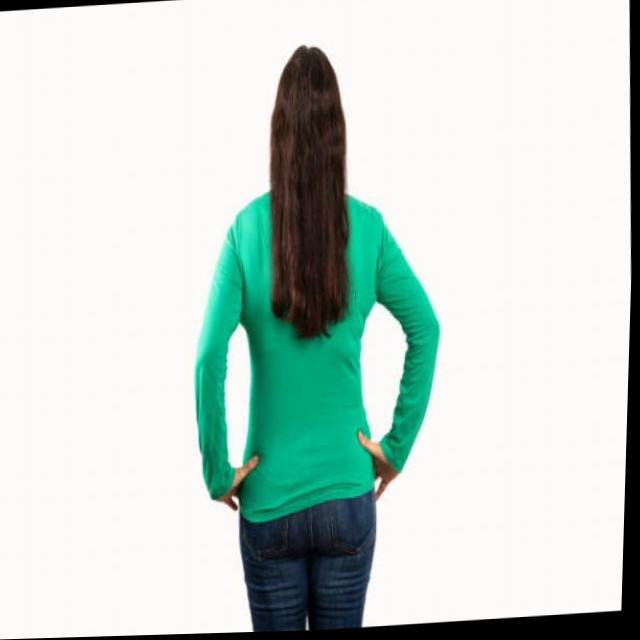no helmet: (269, 40, 357, 198)
